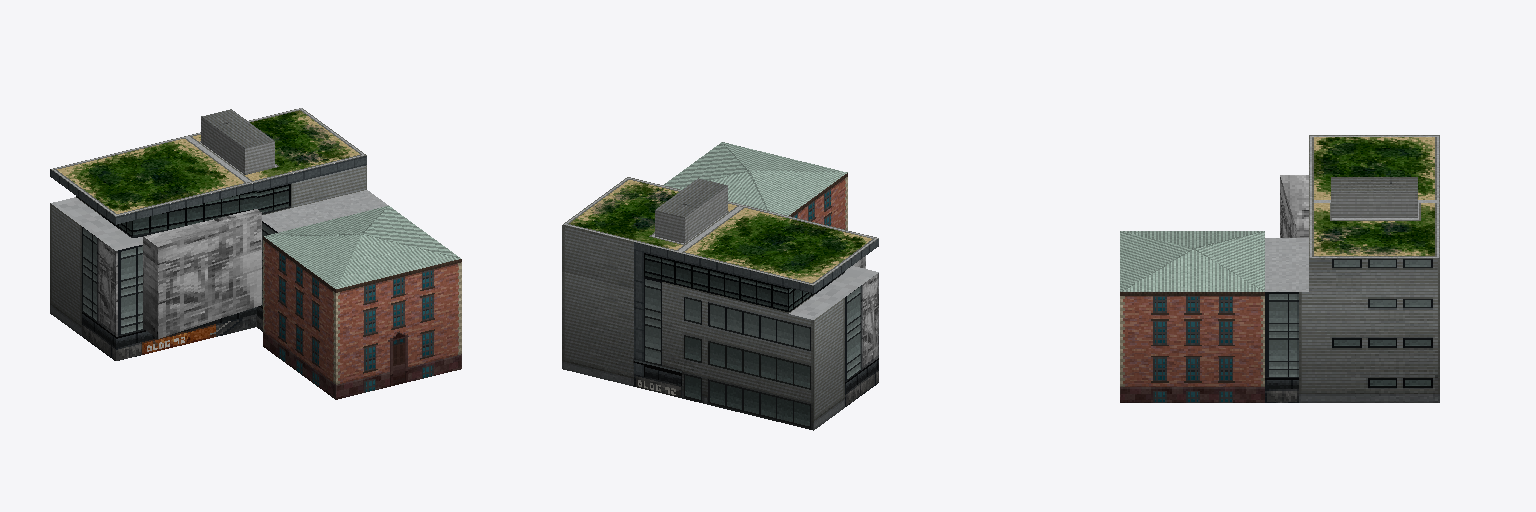
The picture shows the model from 3 angles: view 1: azimuth 30°, elevation 25°; view 2: azimuth 150°, elevation 25°; view 3: azimuth 270°, elevation 25°; orthographic projection.
Size of the model in its own units: 100 by 65 by 110.
Materials: 1 (1 with a texture image).